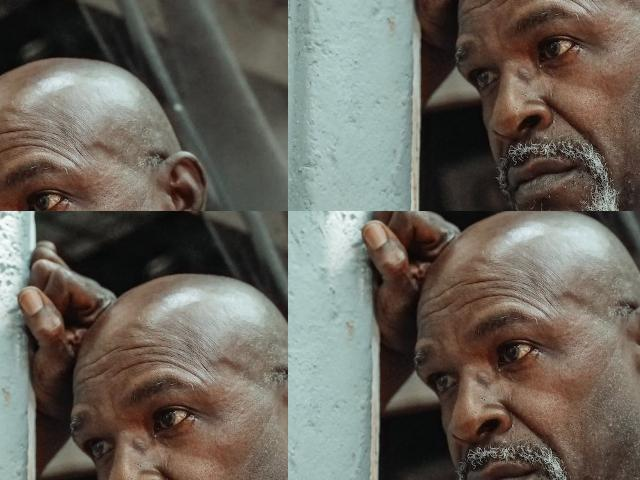chin: (11, 193, 23, 211)
crows_feet: (56, 286, 74, 304), (157, 296, 173, 316)
forehead: (422, 280, 466, 318), (472, 275, 526, 303), (20, 30, 40, 64), (0, 24, 16, 53), (107, 250, 131, 262), (66, 256, 85, 270)
frown_line: (0, 55, 7, 80), (118, 276, 130, 290)
gummy_smile: (512, 406, 550, 444), (20, 144, 30, 182), (535, 0, 556, 17), (134, 326, 146, 347), (74, 320, 88, 336), (480, 0, 497, 12)
masseter: (65, 352, 79, 370), (59, 328, 69, 352), (138, 358, 148, 380), (148, 334, 158, 356)
